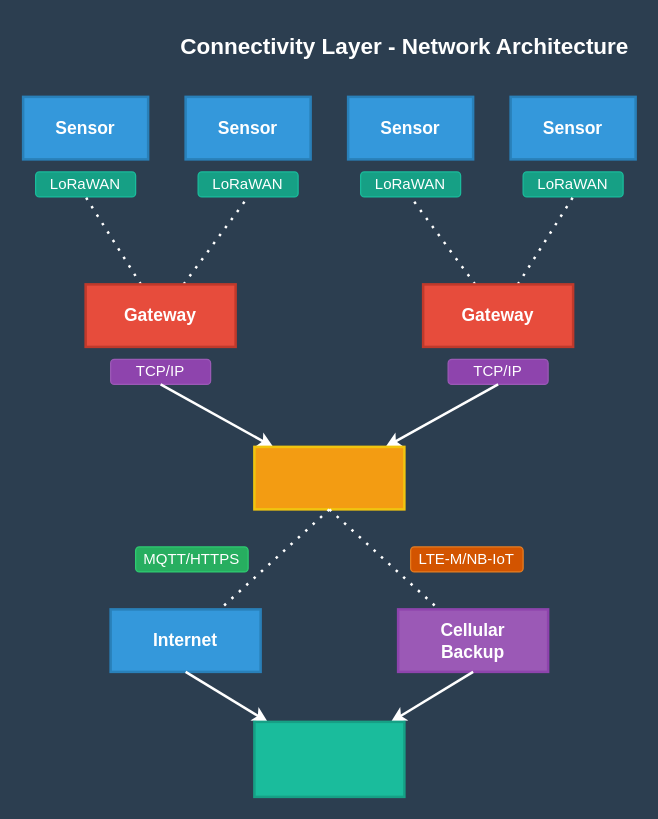
Some shapes in this 658 by 819 pixel diagram are drawn without their labels. The box of each missing label's shape, as (x1, y1, x2, y2) in pixels:
Cloud Platform: (252, 720, 405, 798)
Network Server: (252, 445, 405, 510)
